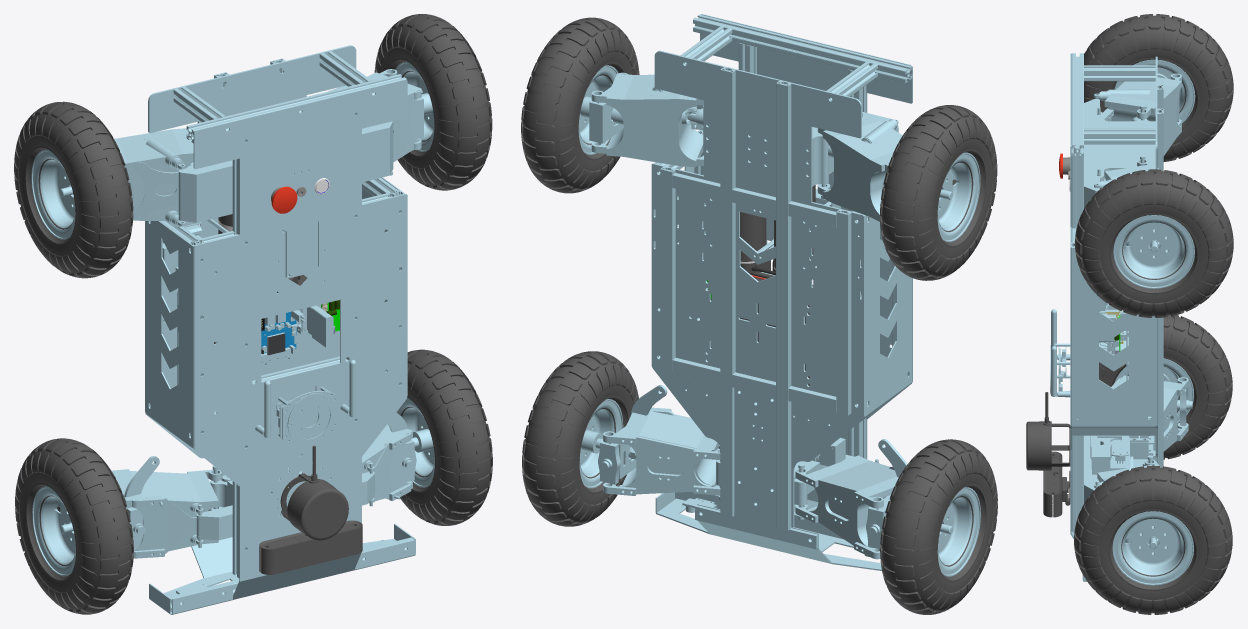
File: ackermann.glb
3 views of the same model, side by side, from view 1: azimuth 30°, elevation 25°; view 2: azimuth 150°, elevation 25°; view 3: azimuth 270°, elevation 25° (orthographic). The views are drawn at different scales.
Parts seen in each view (by area): view 1: part-0038, part-0045, part-0050, part-0043, part-0046, part-0039, part-0052, part-0091, part-0034, part-0031, part-0078, part-0089 (+10 smaller); view 2: part-0034, part-0046, part-0039, part-0045, part-0050, part-0052, part-0043, part-0037, part-0018, part-0006, part-0091, part-0038 (+14 smaller); view 3: part-0052, part-0043, part-0045, part-0090, part-0039, part-0050, part-0046, part-0017, part-0089, part-0078, part-0005, part-0021 (+8 smaller).
Boxes of the visible parts, x1,y1,x2,y2 form: part-0038: [193, 79, 407, 565]; part-0045: [14, 101, 133, 278]; part-0050: [15, 438, 133, 614]; part-0043: [374, 14, 492, 190]; part-0046: [60, 412, 418, 558]; part-0039: [59, 69, 423, 284]; part-0052: [396, 349, 492, 525]; part-0091: [146, 221, 203, 457]; part-0034: [145, 45, 356, 458]; part-0031: [149, 524, 415, 614]; part-0078: [259, 520, 362, 574]; part-0089: [288, 445, 348, 540]; part-0034: [651, 50, 864, 527]; part-0046: [595, 385, 953, 559]; part-0039: [589, 72, 952, 272]; part-0045: [880, 105, 997, 280]; part-0050: [880, 439, 997, 614]; part-0052: [522, 351, 638, 526]; part-0043: [521, 17, 639, 193]; part-0037: [695, 388, 818, 549]; part-0018: [776, 81, 791, 530]; part-0006: [720, 67, 735, 516]; part-0091: [856, 215, 911, 424]; part-0038: [700, 14, 912, 459]; part-0052: [1074, 465, 1232, 614]; part-0043: [1075, 169, 1233, 317]; part-0045: [1084, 14, 1233, 161]; part-0090: [1072, 247, 1155, 435]; part-0039: [1084, 73, 1181, 252]; part-0050: [1099, 315, 1232, 459]; part-0046: [1084, 375, 1192, 548]; part-0017: [1071, 153, 1083, 531]; part-0089: [1026, 392, 1050, 470]; part-0078: [1043, 451, 1070, 517]; part-0005: [1071, 53, 1083, 156]; part-0021: [1084, 65, 1155, 81].
Size of the model in its own units: 0.6719 by 0.7823 by 0.3331.
